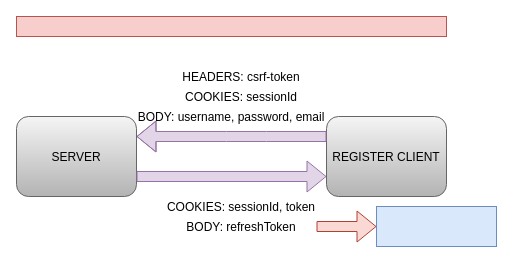
This 513x263 diagram has some shape labels left out. The shapes that lost their labels are listed below. From the top down, each one's box as (x1, y1, x2, y2) in pixels, then its label:
(16, 16, 446, 36): REGISTER
(376, 206, 496, 246): Local storage
